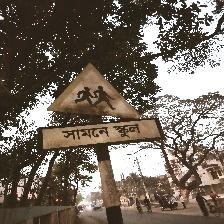School-in-front: (41, 62, 161, 152)
